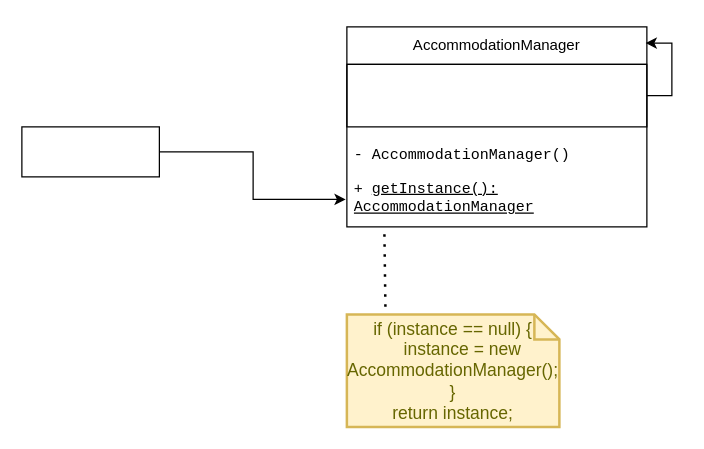
Some shapes in this 704 by 449 pixel diagram are drawn without their labels. Each missing label, with the centre of its shape:
- instance: AccommodationManager: (x=496, y=95)
Client: (x=90, y=151)
